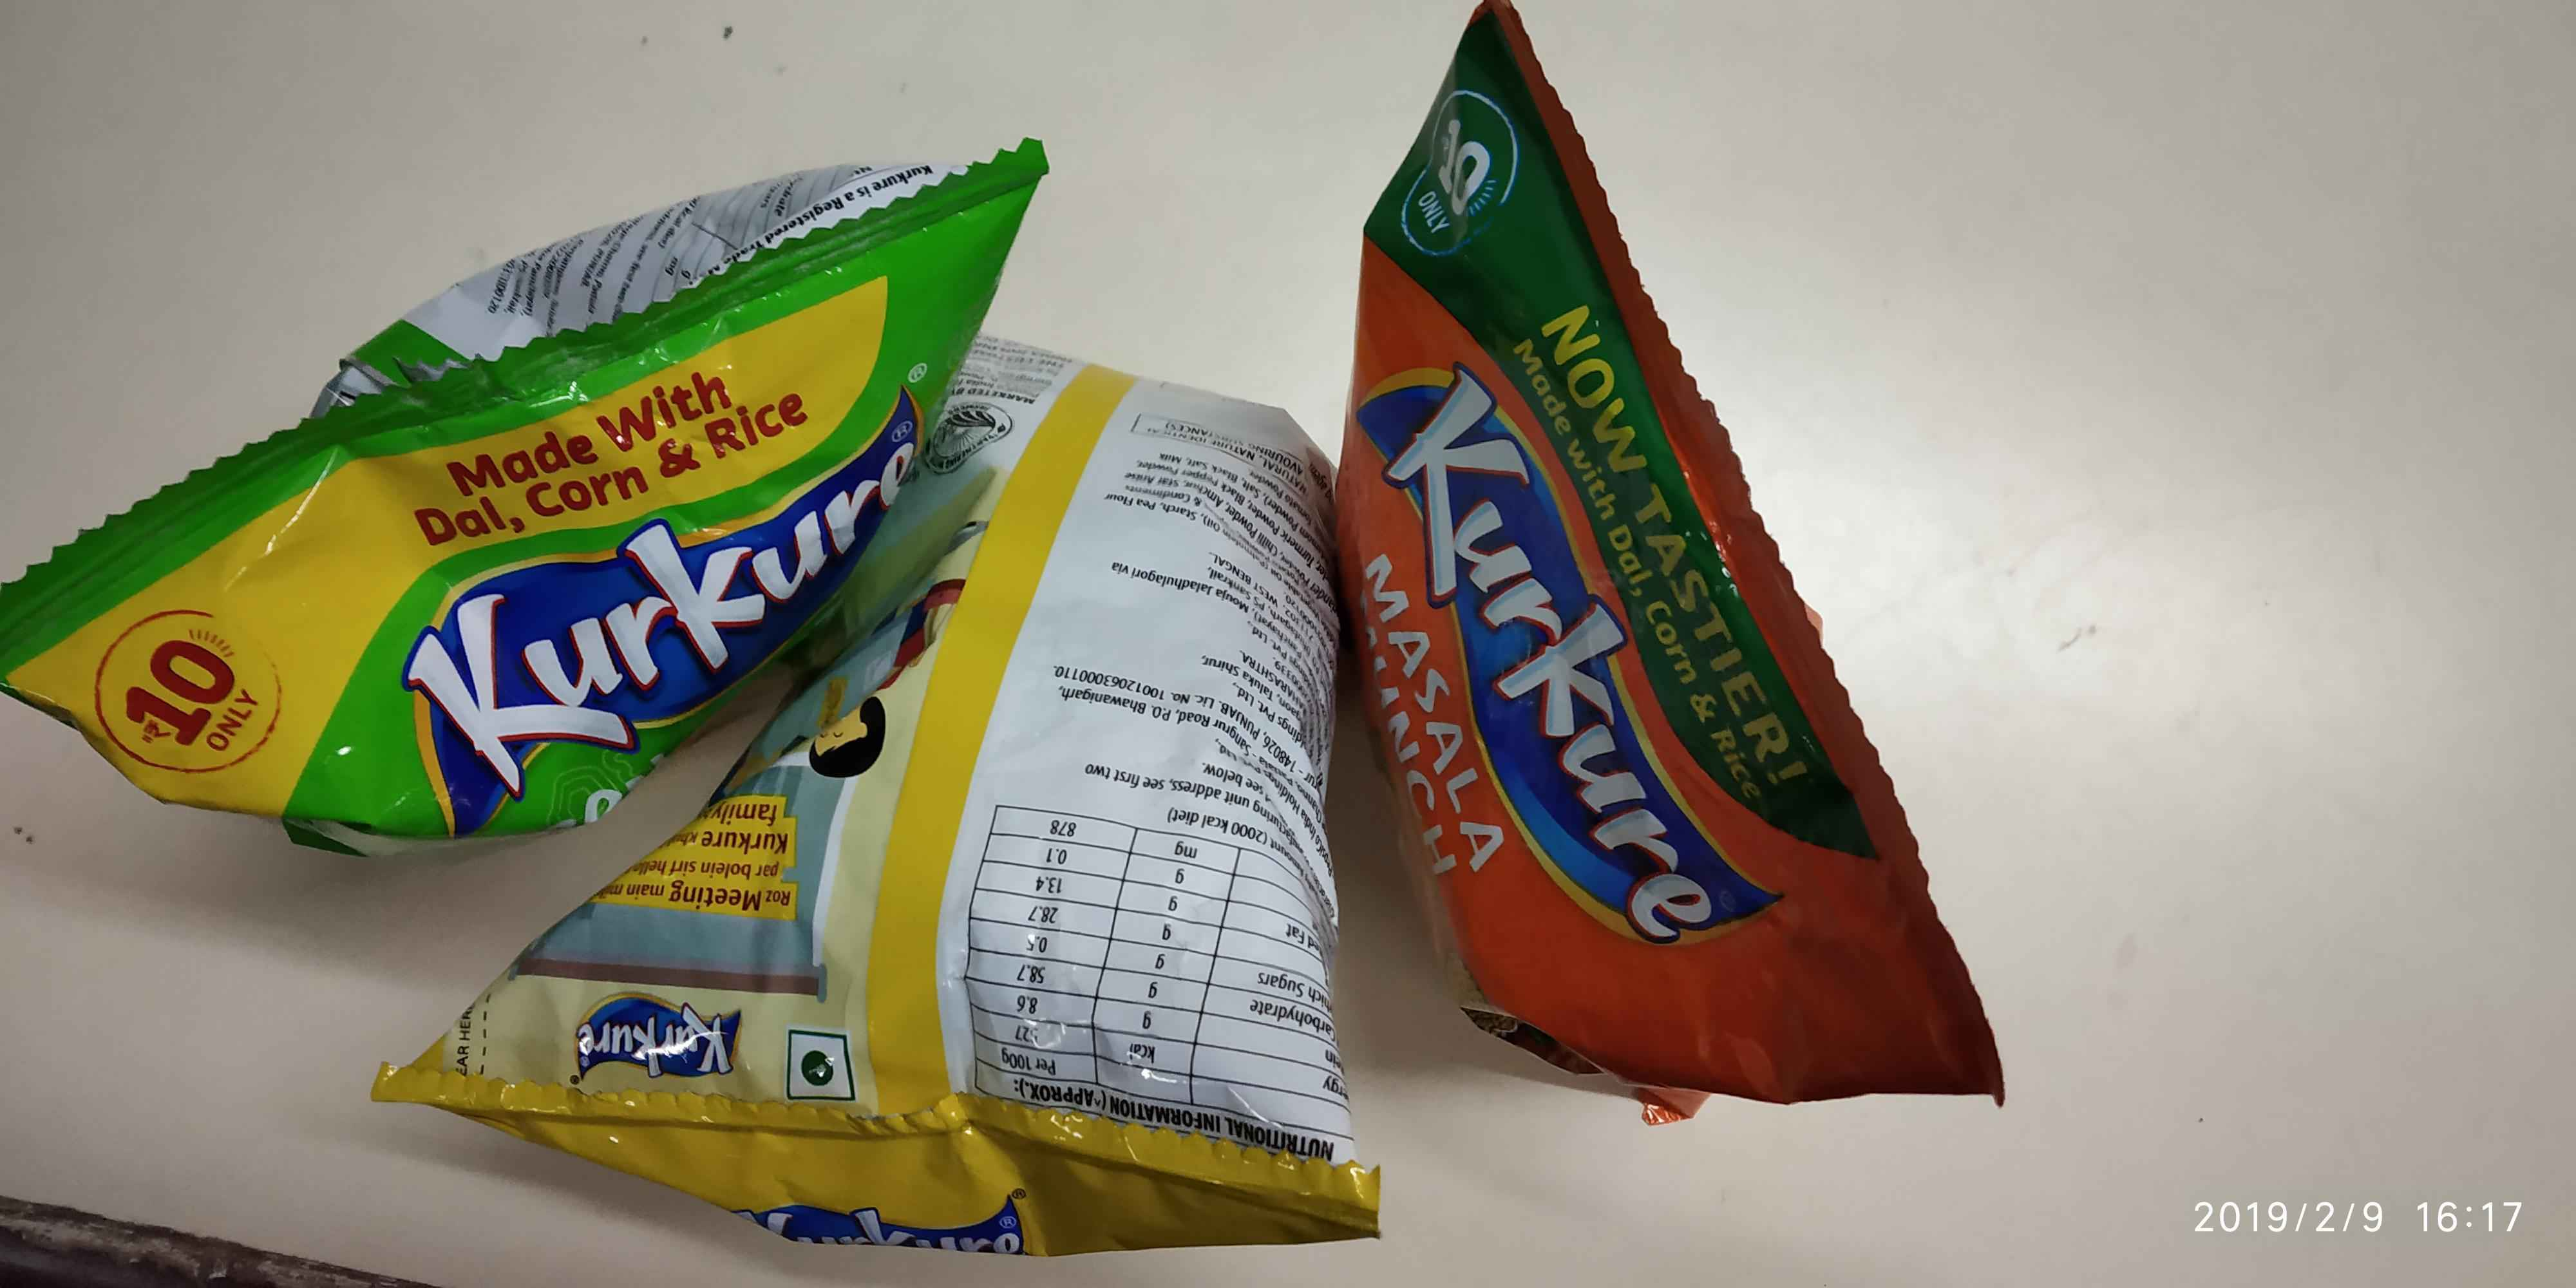kurkure: (1367, 340, 1805, 935), (401, 370, 948, 846), (741, 1168, 1056, 1257), (565, 976, 754, 1088)
